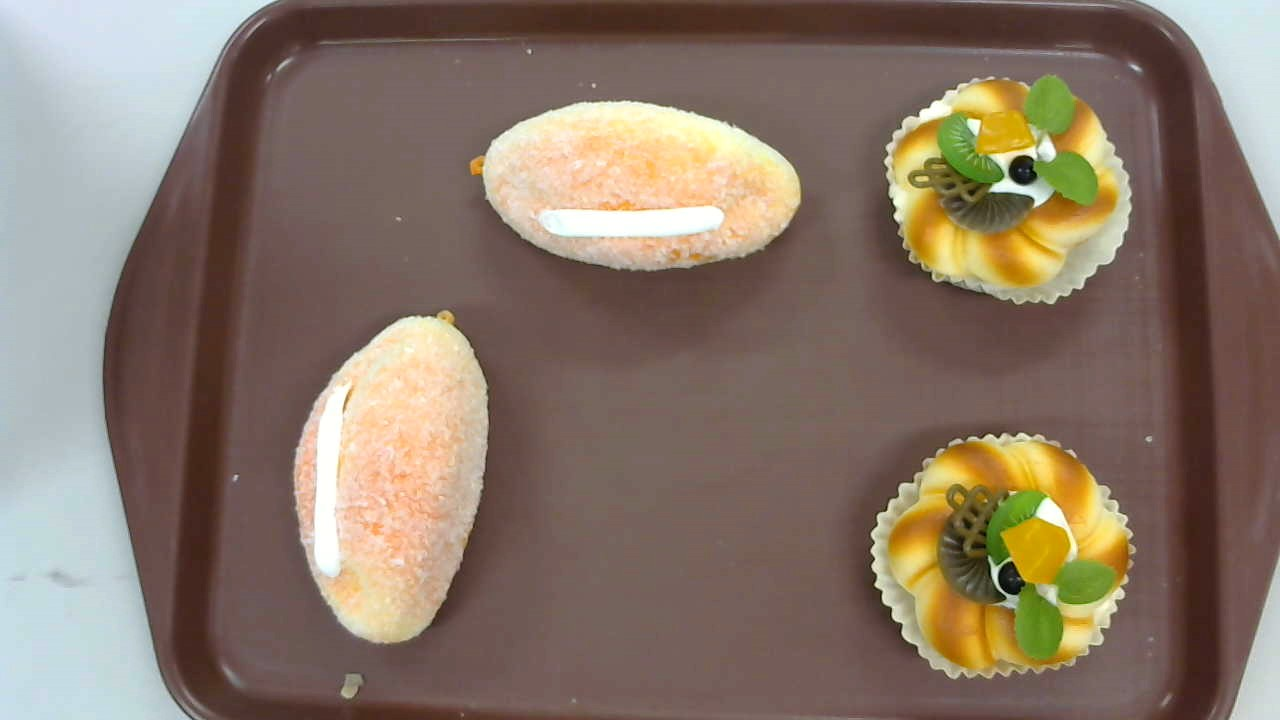coconut: (294, 310, 489, 645), (468, 99, 802, 272)
fruit tart: (871, 432, 1135, 681), (884, 73, 1133, 307)
